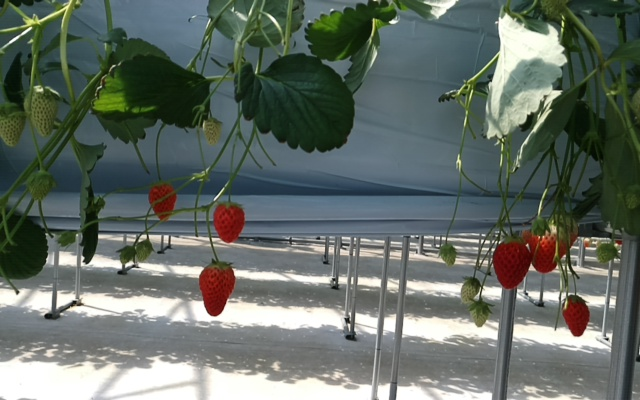GreenStrawberry: (21, 85, 60, 138), (1, 102, 26, 149), (26, 172, 54, 202), (458, 277, 482, 305), (201, 116, 223, 146), (469, 301, 490, 328), (595, 242, 617, 264), (134, 239, 153, 264), (439, 244, 456, 268)
MatureStrawberry: (529, 213, 579, 273), (198, 260, 237, 317), (492, 236, 530, 289), (212, 201, 246, 244), (560, 294, 590, 337), (146, 182, 177, 223)
